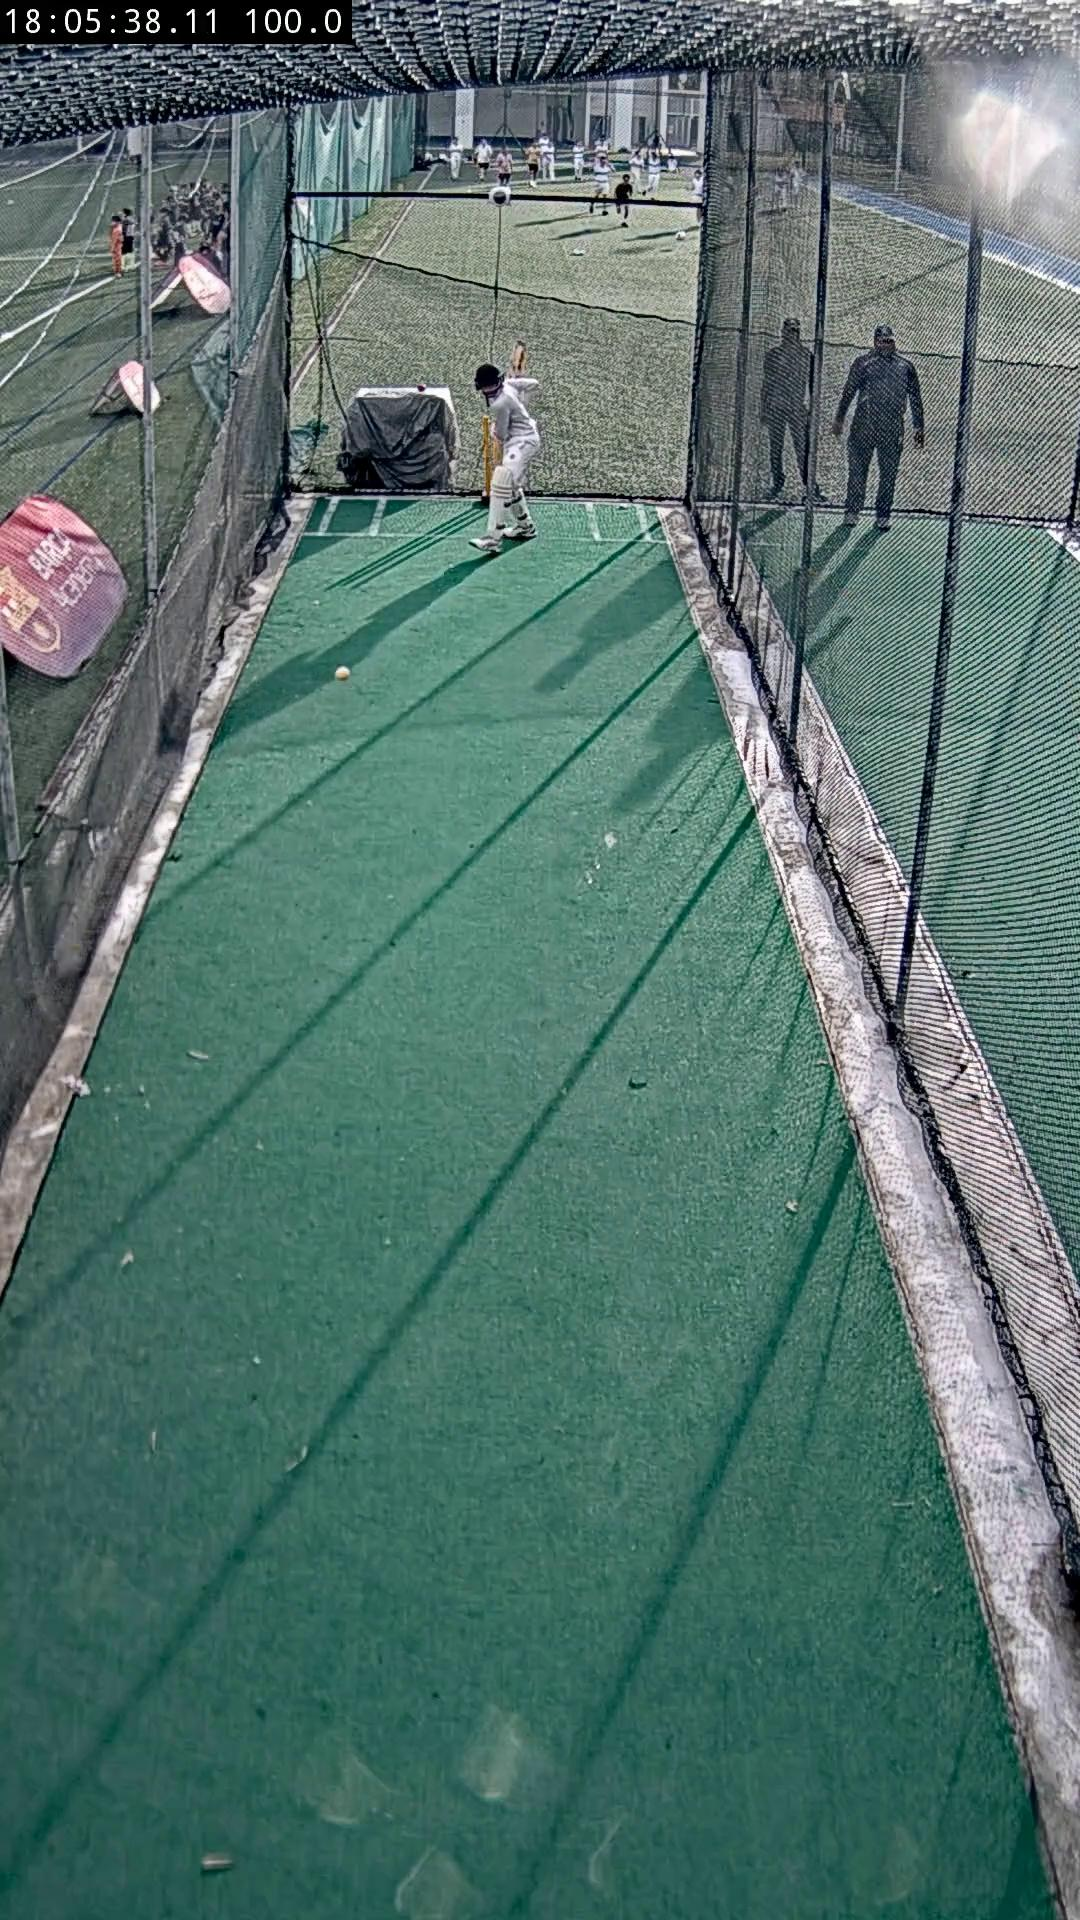ball: (334, 667, 348, 679)
bat: (506, 342, 529, 378)
helmet: (476, 364, 502, 388)
pads: (488, 462, 533, 542)
stumps: (480, 413, 498, 501)
